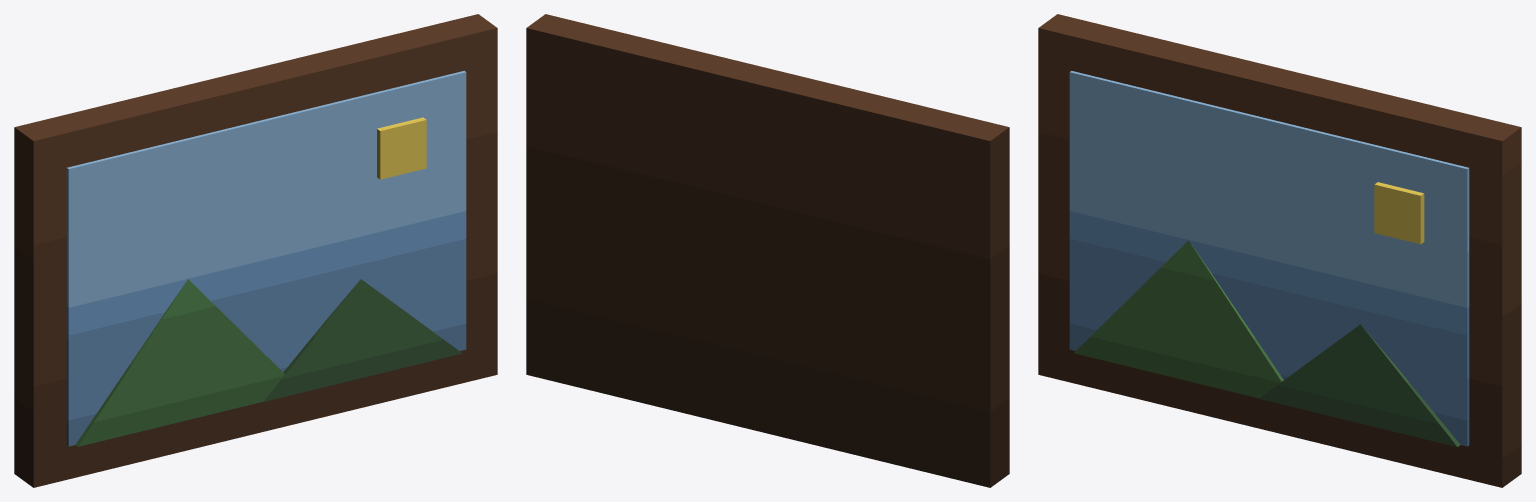
The model's file is wall_painting.glb.
3 views of the same model, side by side, from view 1: azimuth 30°, elevation 25°; view 2: azimuth 150°, elevation 25°; view 3: azimuth 330°, elevation 25° (orthographic).
Bounding box in the file's own units: 0.7 × 0.5 × 0.064.
1 material, 1 textured.
